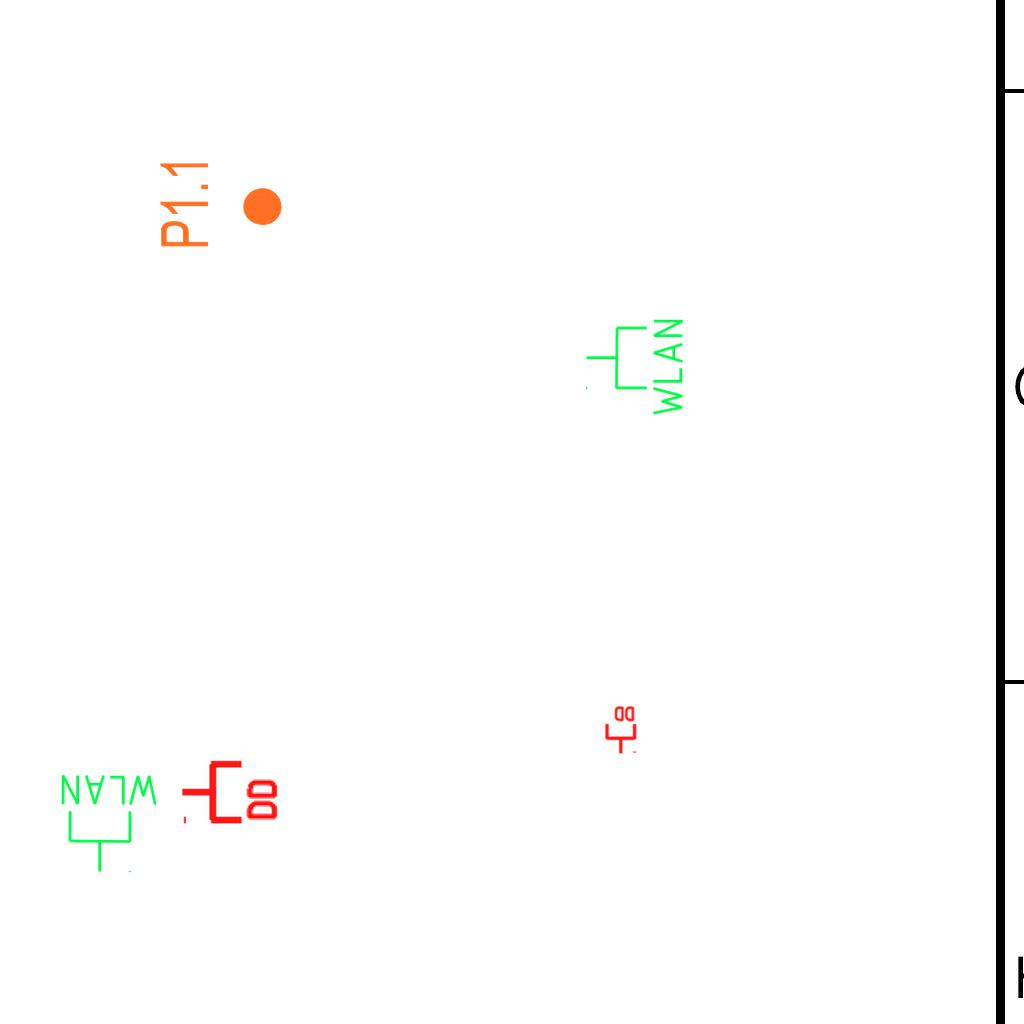Datenanschluss_zweifach: (179, 756, 282, 825), (603, 704, 637, 755)
Downlight_LED_Einbauleuchten_Flur: (157, 157, 285, 250)
WLAN: (57, 771, 162, 875), (583, 315, 687, 420)
